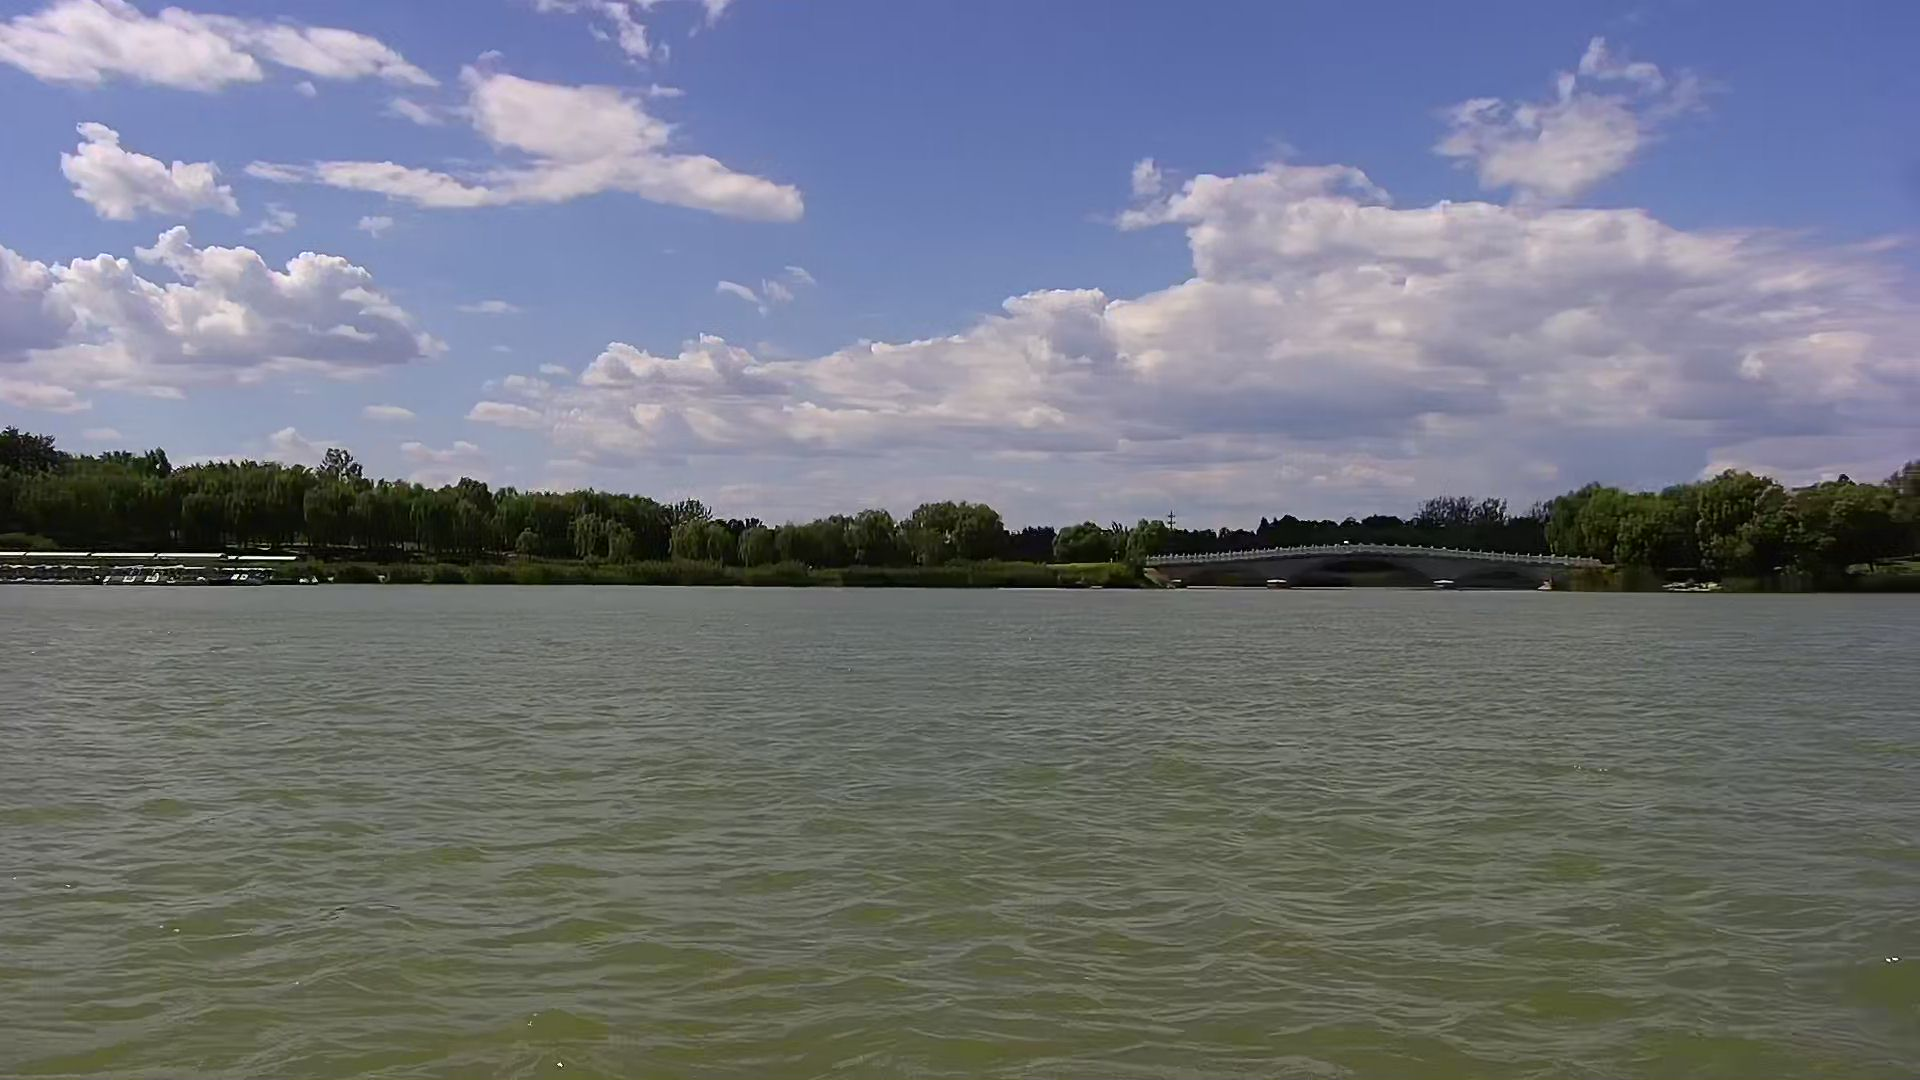bridge: (1146, 541, 1615, 599)
harbor: (1, 545, 291, 591)
